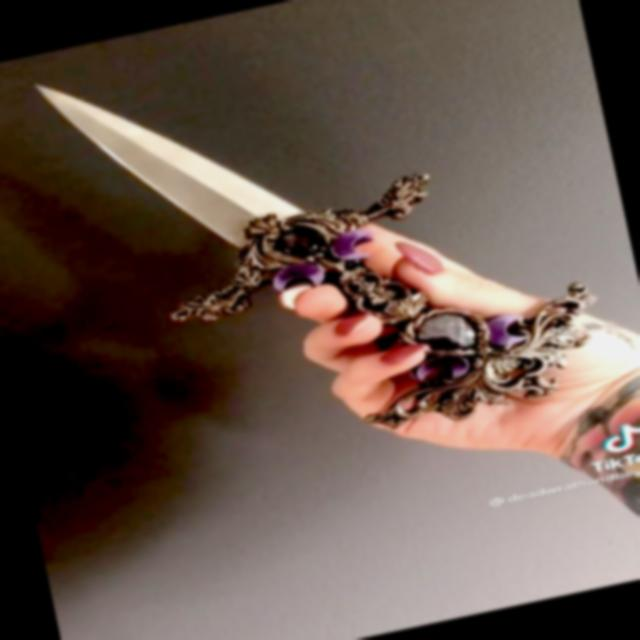short sword: (7, 0, 627, 511)
